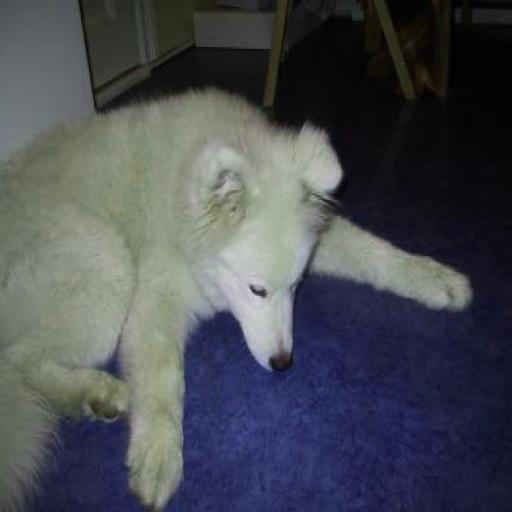dog_face: (192, 128, 332, 374)
